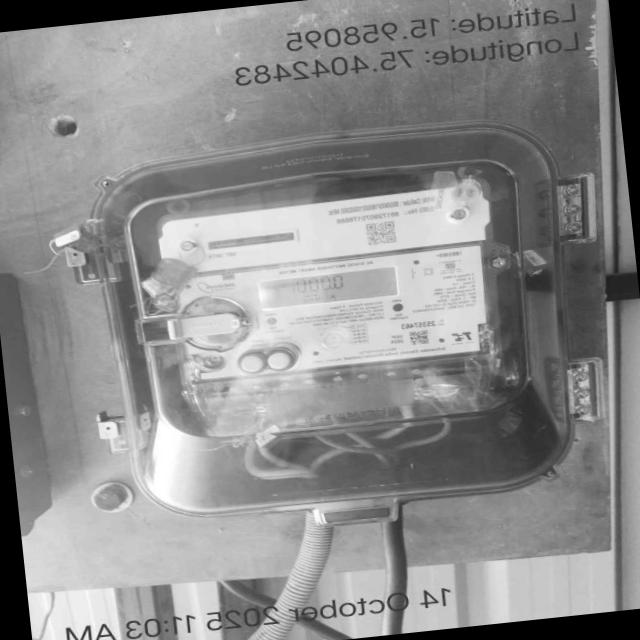meter: (159, 184, 500, 385)
